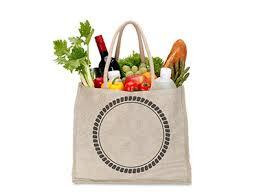Organic: (58, 24, 196, 85)
